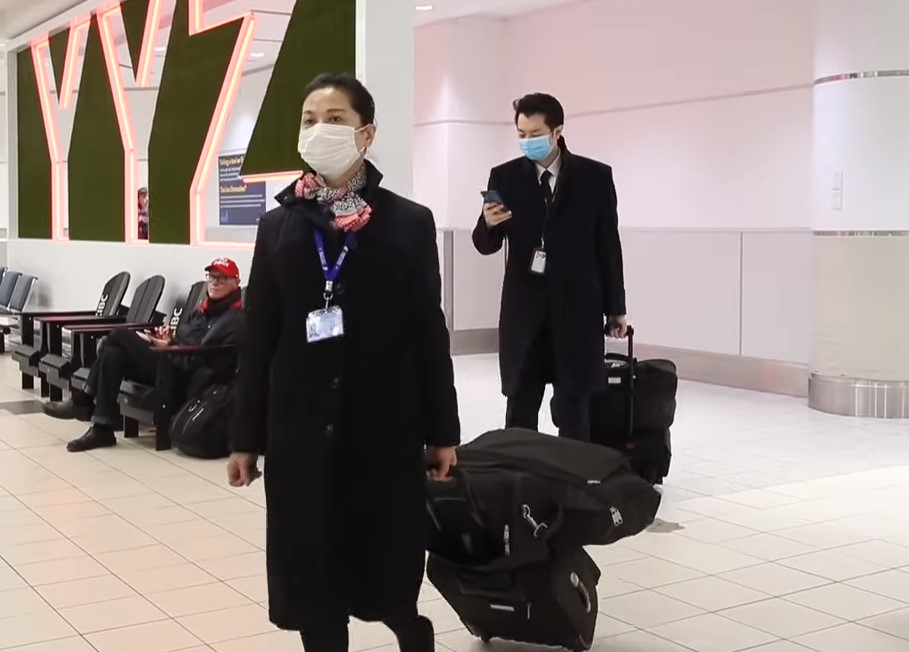face_with_mask: (292, 75, 383, 183), (509, 93, 570, 162)
